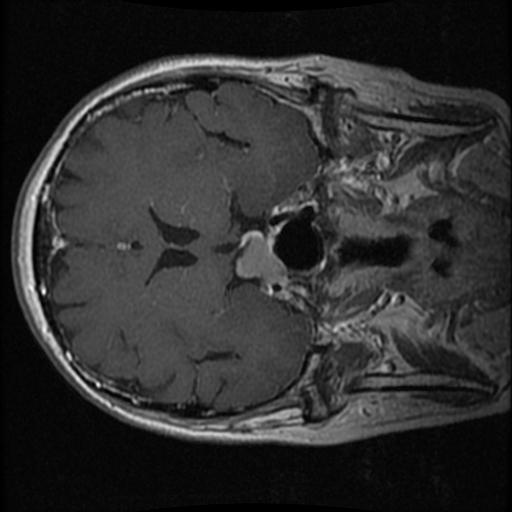pituitary tumour: (234, 235, 282, 284)
